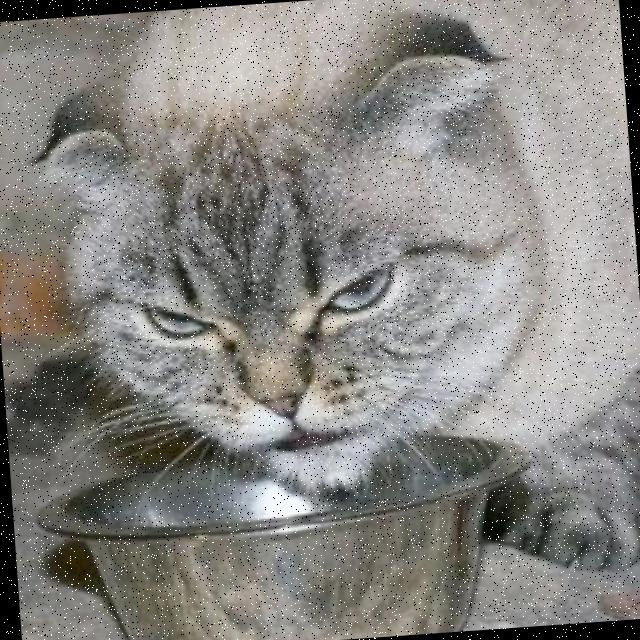Angry: (55, 180, 476, 507)
